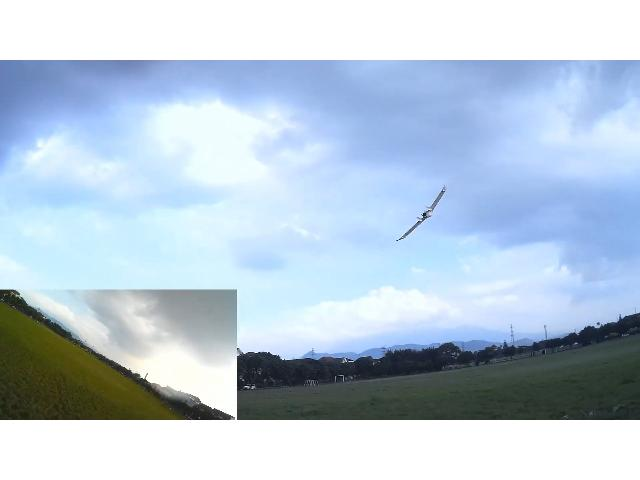Anti-Drone: (395, 181, 455, 243)
